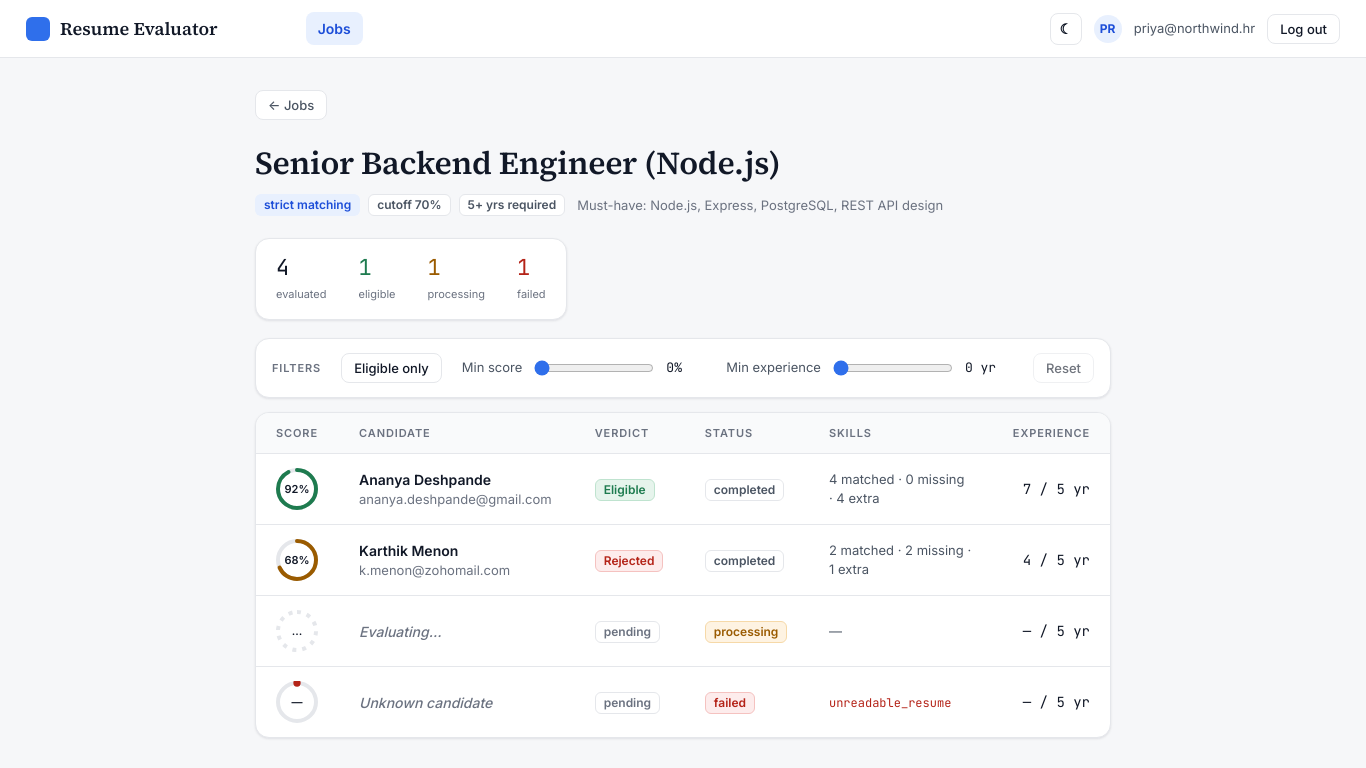
Test: Phase 6 - Job Candidates: filters › "Eligible only" asks the backend for eligible=true and narrows the rows
The width and height of the screenshot is (1366, 768).
Click the button "Eligible only" at (391, 368), box [341,353,442,383]
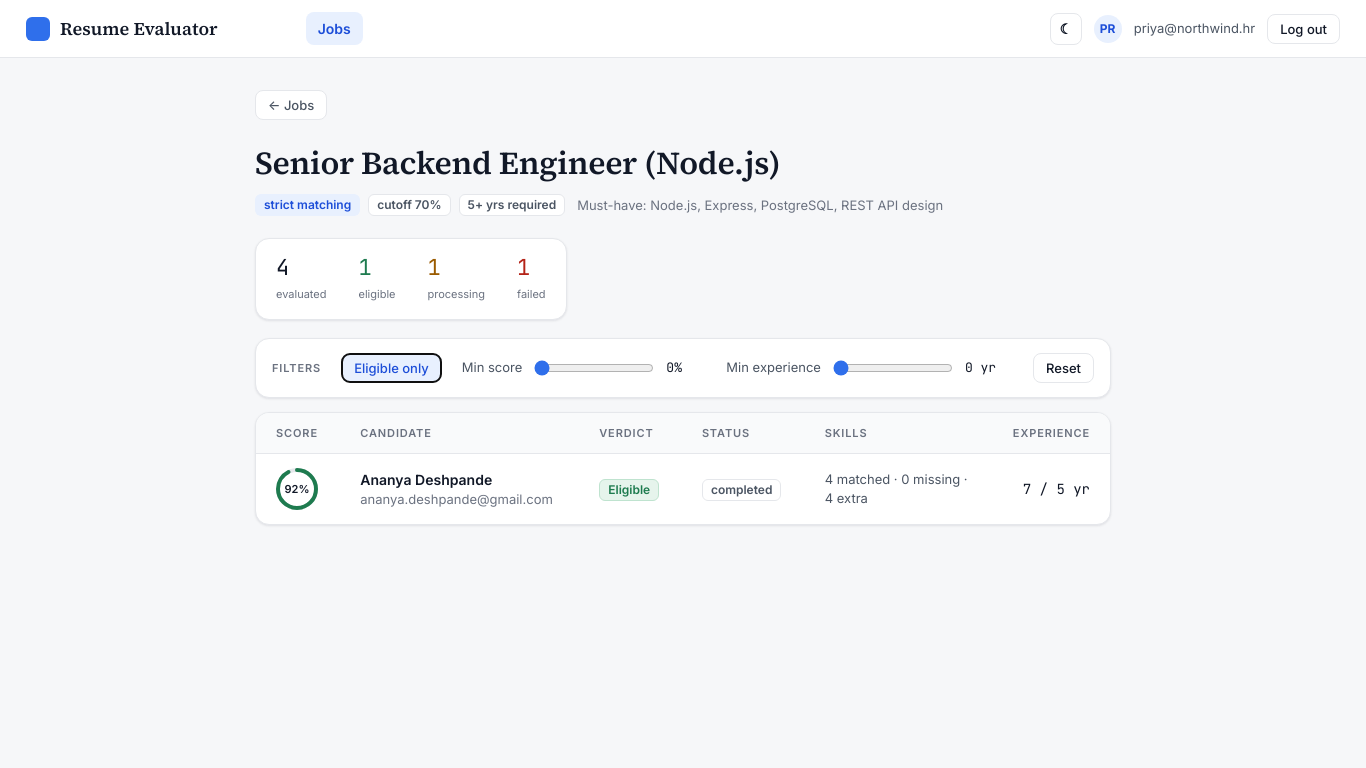
Expected: the text "Ananya Deshpande" is shown, [360,471,492,488]
Now the text "Karthik Menon" is gone
